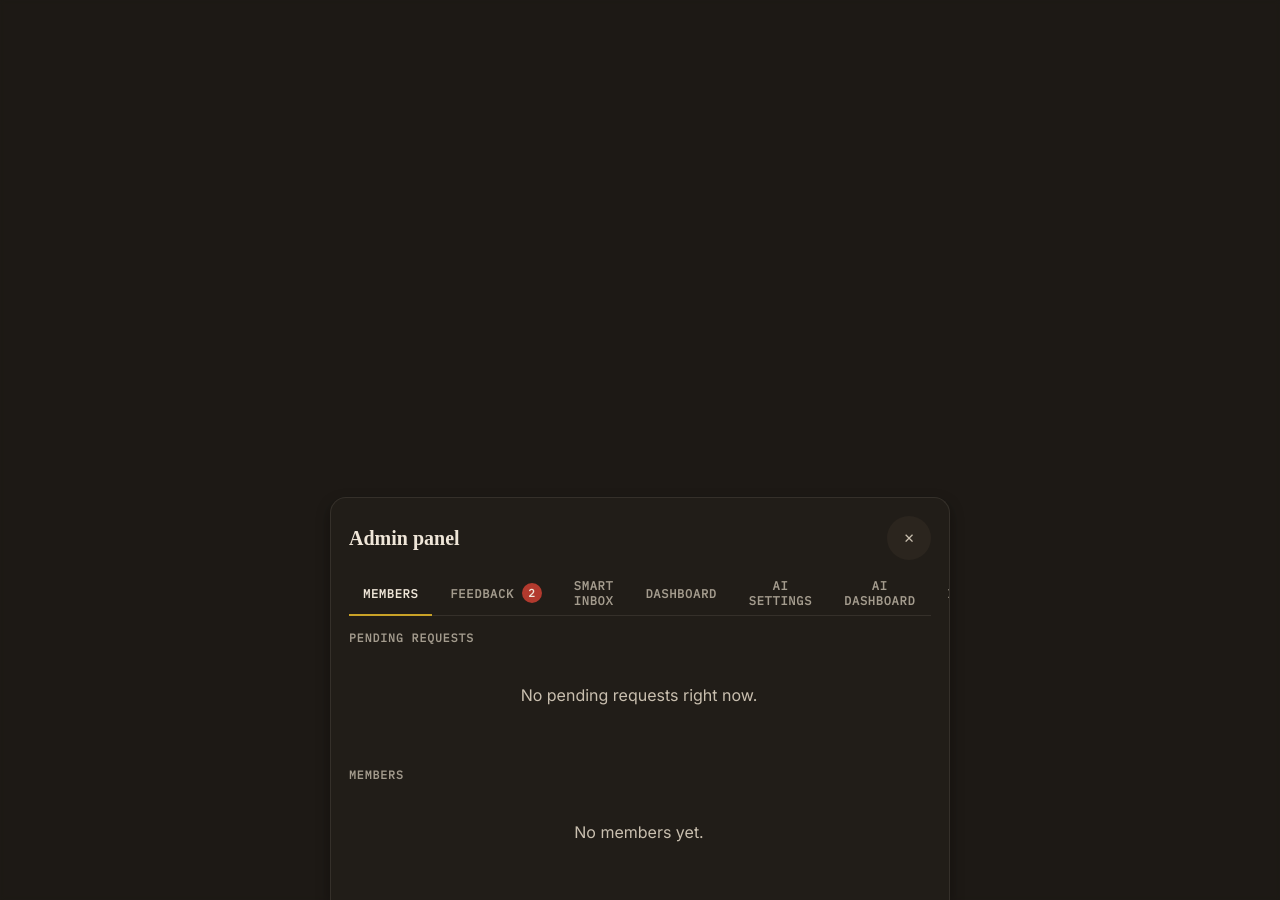
Test: Admin feedback inbox (epic #74, T6 #75) › filters the inbox by type
Click the tab "Feedback 2".
click(496, 594)  # box [436,572,556,616]
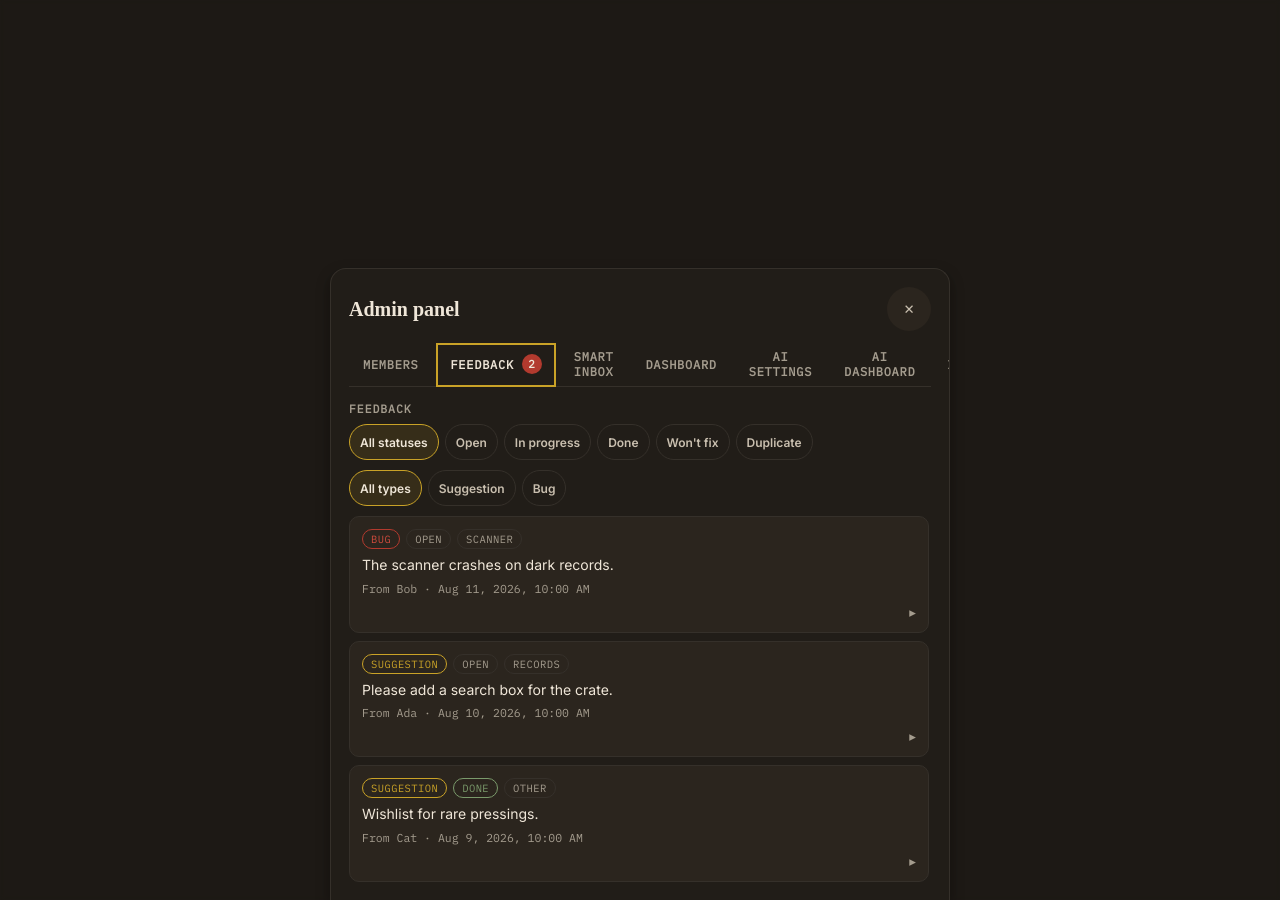
Click the button "Bug".
click(544, 488)  # box [522,470,566,506]
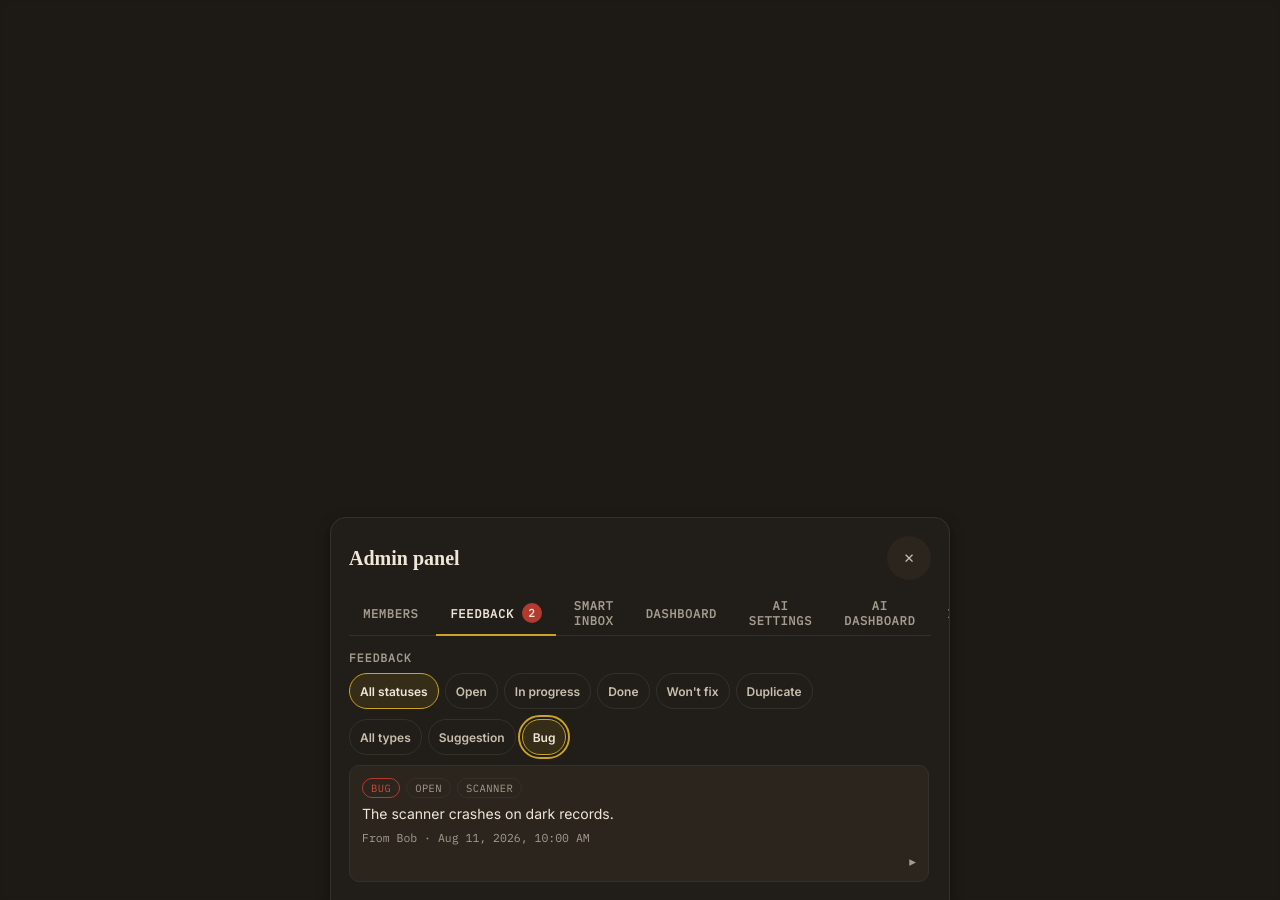
Expected: the text "The scanner crashes on dark records." is shown, [362,804,614,824]
Expected: the button "Please add" is gone
Expected: the button "Wishlist" is gone
